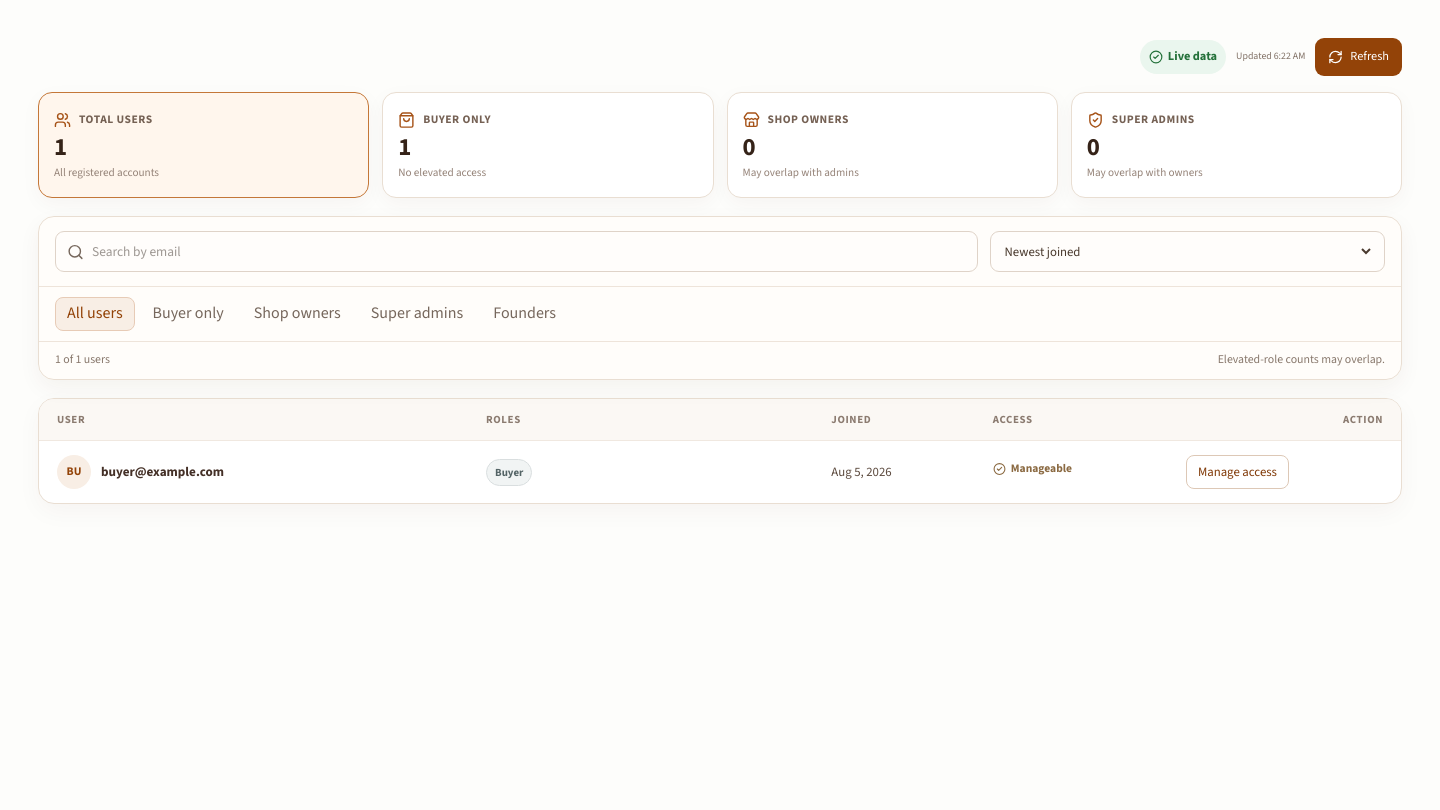
Scenario: RoleAssignationPage super-admin promotion › does not show super-admin controls to another super admin
Step 1. Click the button "Manage access" → (1237, 472), box [1186,455,1289,489]
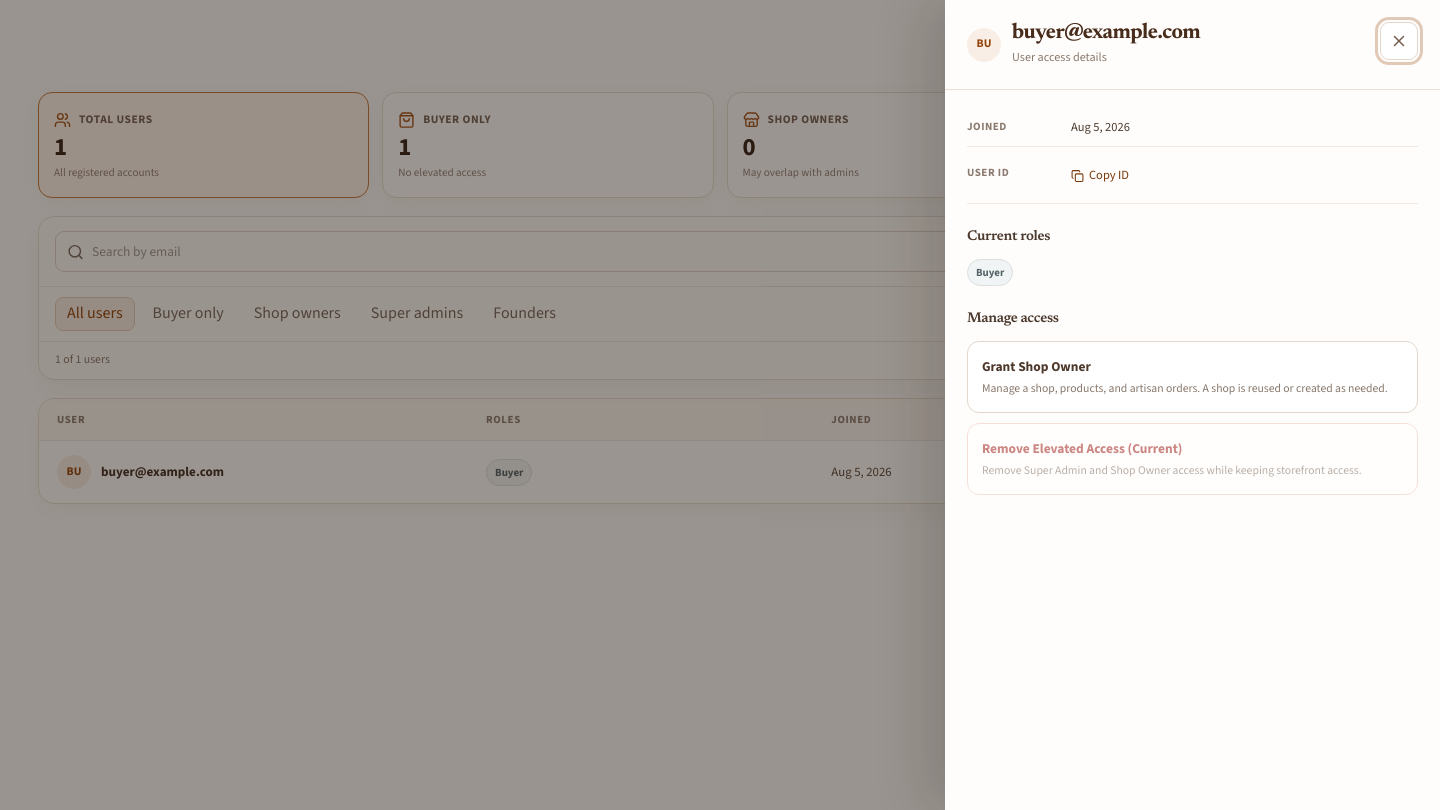
Expected: the button "Grant Shop Owner" is shown, [967,341,1418,413]
